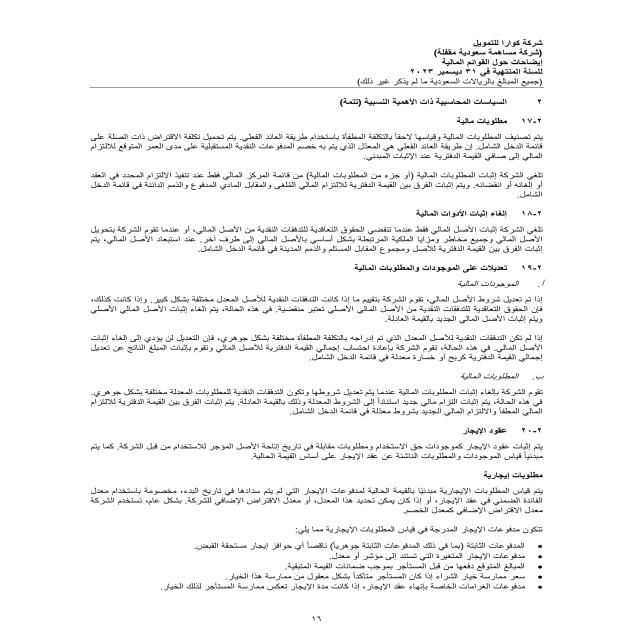notes: (434, 56, 546, 67)
text: (57, 108, 561, 606)
